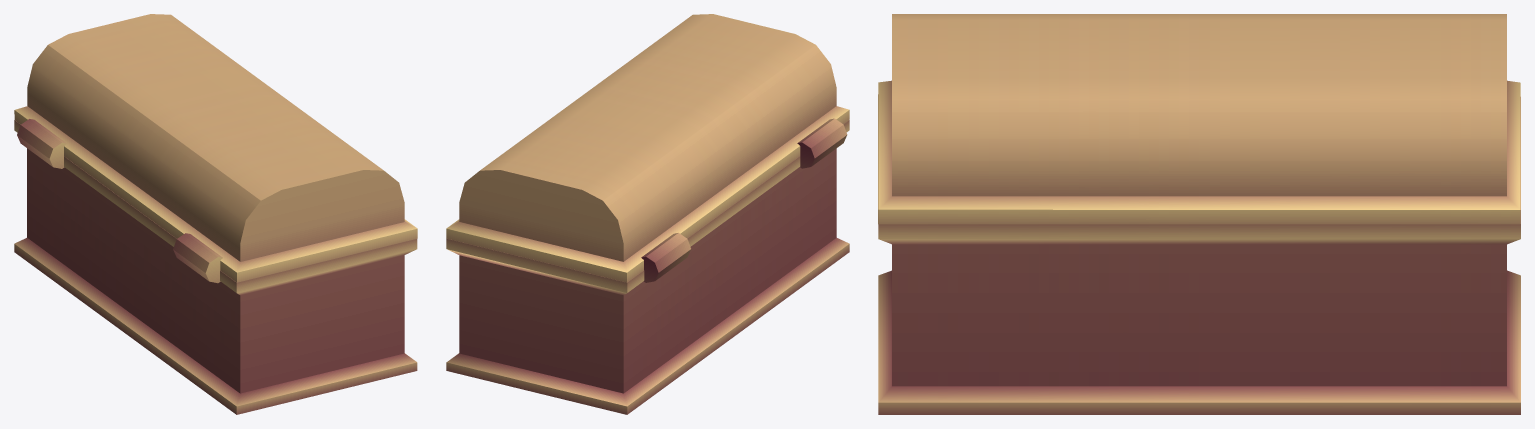
Rendered from Chest.fbx.
3 views of the same model, side by side, from view 1: azimuth 30°, elevation 25°; view 2: azimuth 150°, elevation 25°; view 3: azimuth 270°, elevation 25° (orthographic). The views are drawn at different scales.
Visible parts, largest first — view 1: Chest_Top, Chest_Bottom; view 2: Chest_Top, Chest_Bottom; view 3: Chest_Top, Chest_Bottom.
Boxes of the visible parts, <box> form: Chest_Top: <box>14,14,417,282</box>; Chest_Bottom: <box>14,119,417,414</box>; Chest_Top: <box>446,14,849,282</box>; Chest_Bottom: <box>446,118,849,414</box>; Chest_Top: <box>878,14,1520,224</box>; Chest_Bottom: <box>878,97,1520,414</box>.
Size of the model in its own units: 67.75 by 69.42 by 134.
Materials: 1 (1 with a texture image).
